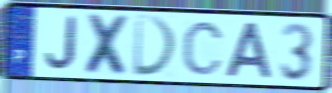3: (279, 21, 317, 83)
A: (224, 21, 275, 80)
C: (181, 20, 225, 77)
D: (132, 13, 180, 78)
J: (43, 15, 78, 72)
X: (83, 12, 132, 79)
